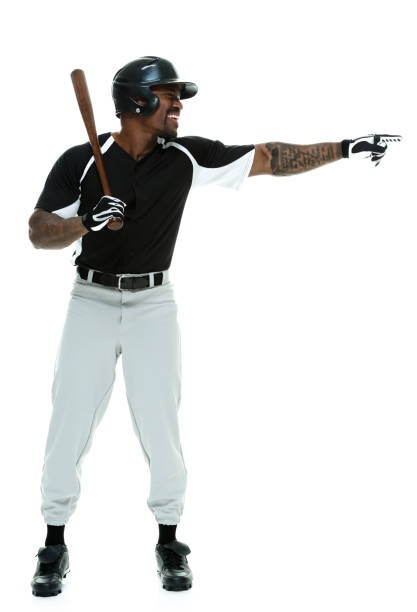bita: (71, 64, 124, 223)
